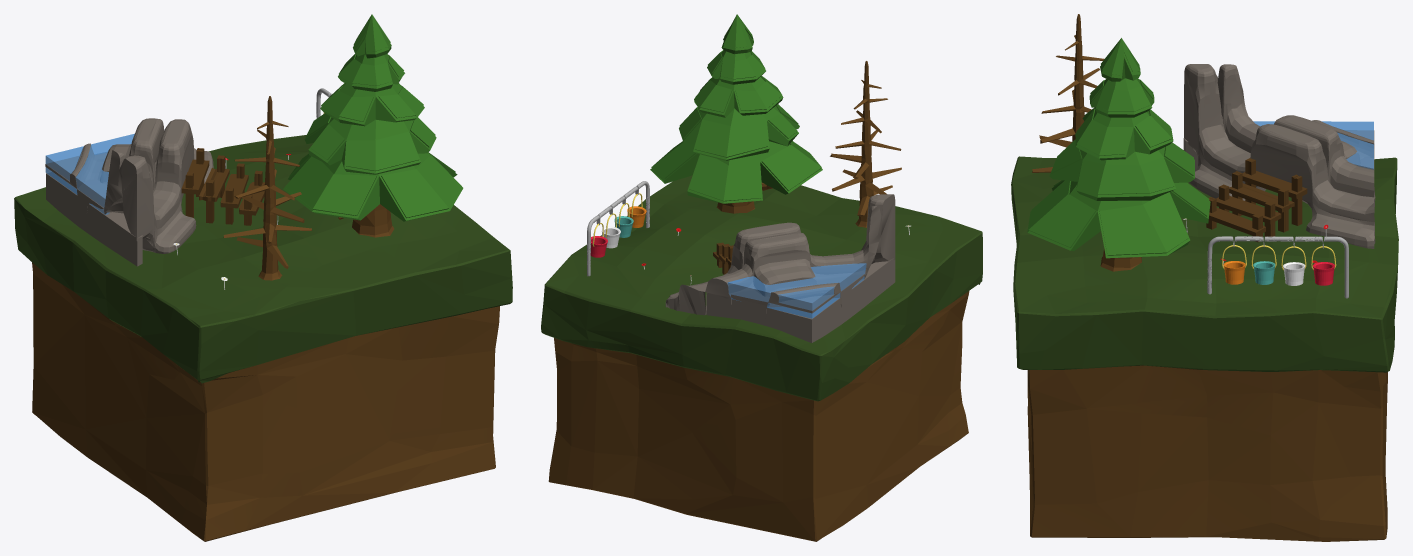
The model's file is R1.min.gltf.
3 renders of one model, left to right at view 1: azimuth 30°, elevation 25°; view 2: azimuth 150°, elevation 25°; view 3: azimuth 270°, elevation 25°, orthographic. The views are drawn at different scales.
Visible parts, largest first — view 1: CENTERED.011; view 2: CENTERED.011; view 3: CENTERED.011.
Part boxes in pixels (bbox=[...]): CENTERED.011: bbox=[14, 14, 512, 541]; CENTERED.011: bbox=[541, 14, 982, 541]; CENTERED.011: bbox=[1011, 14, 1398, 541].
Size of the model in its own units: 1.07 by 1.43 by 1.09.
